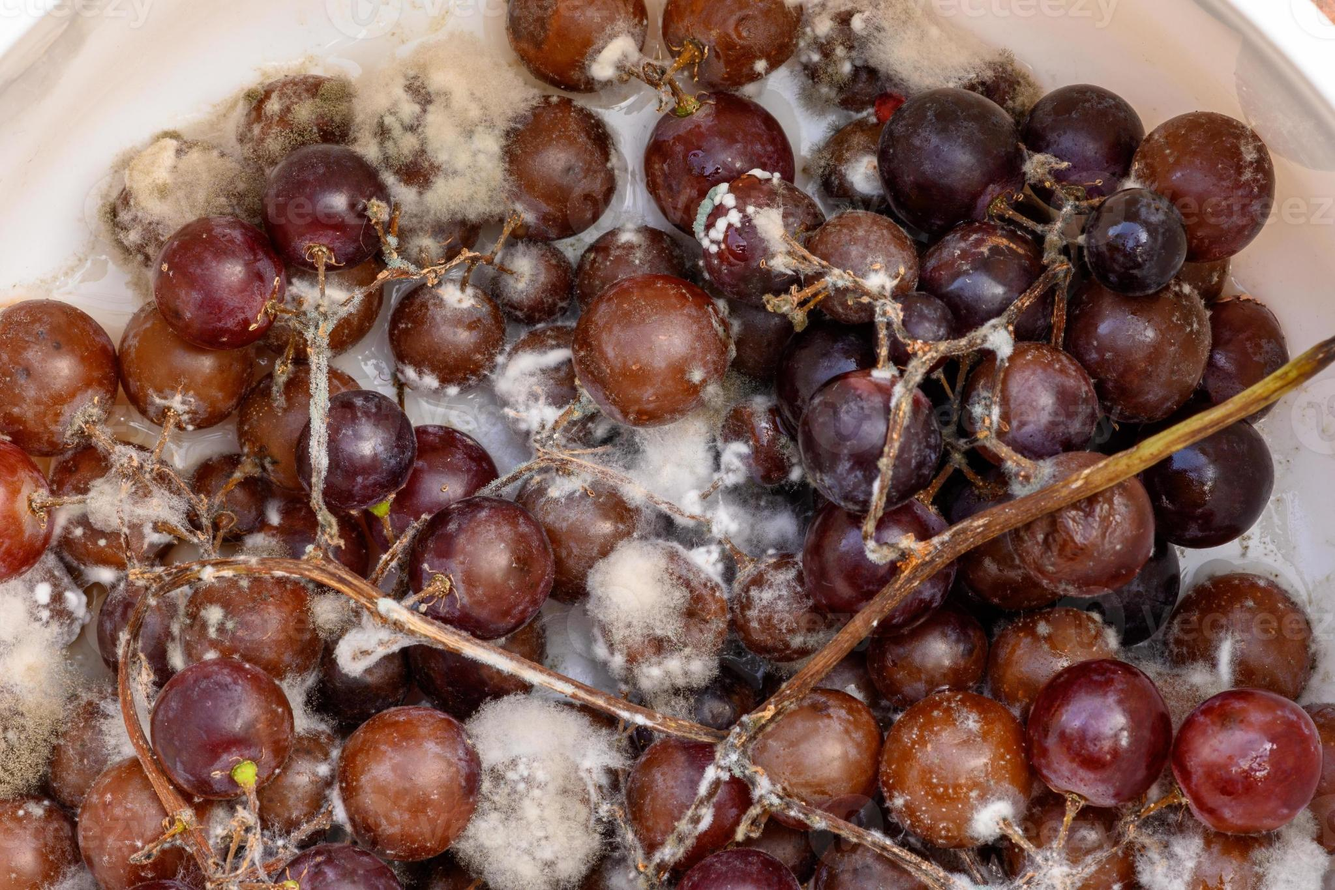Grape Rotten: (3, 2, 1325, 888)
